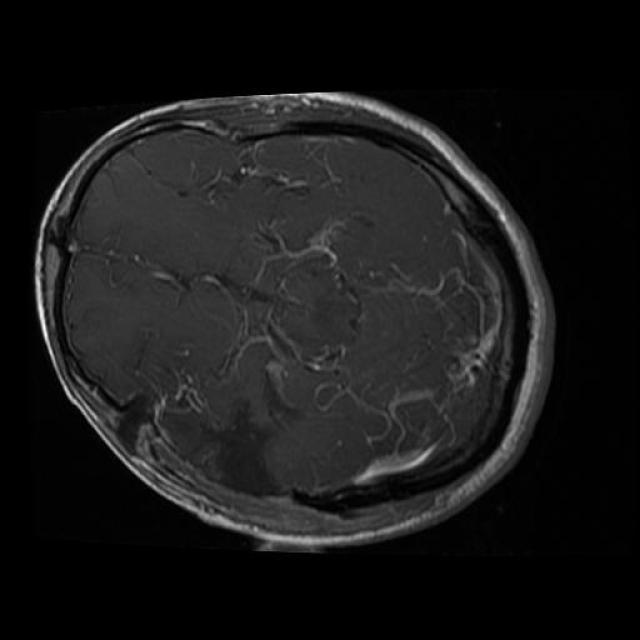Glioma: (148, 372, 278, 494)
